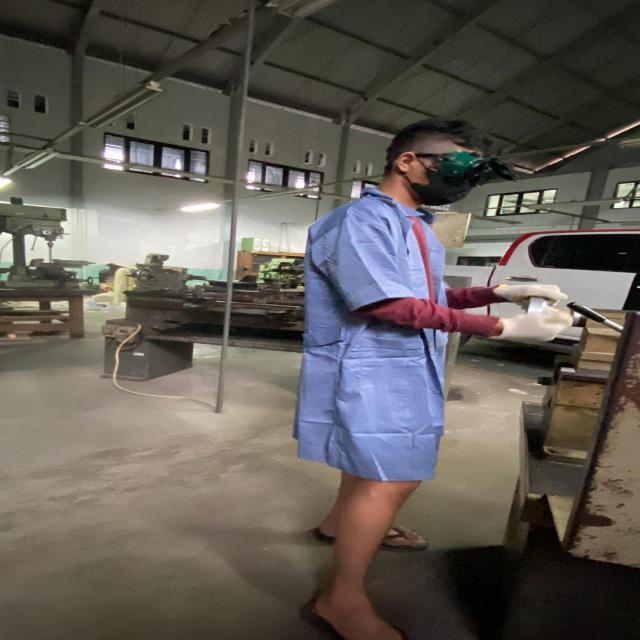glasses: (411, 148, 522, 191)
